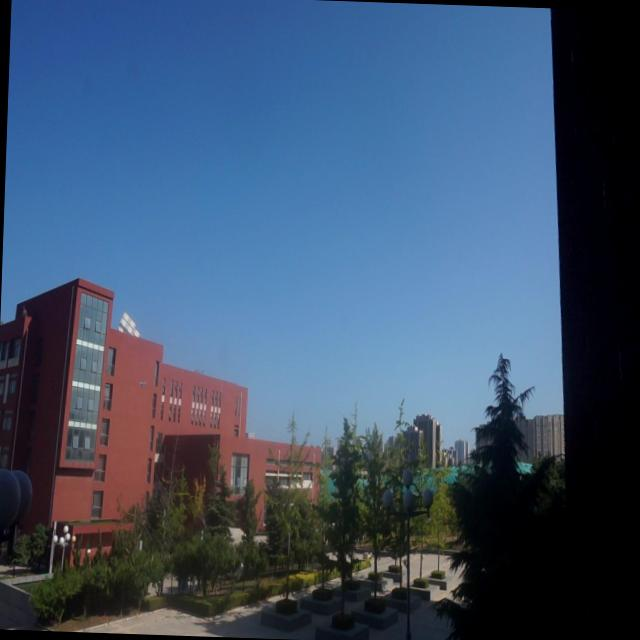drone: (136, 375, 147, 391)
